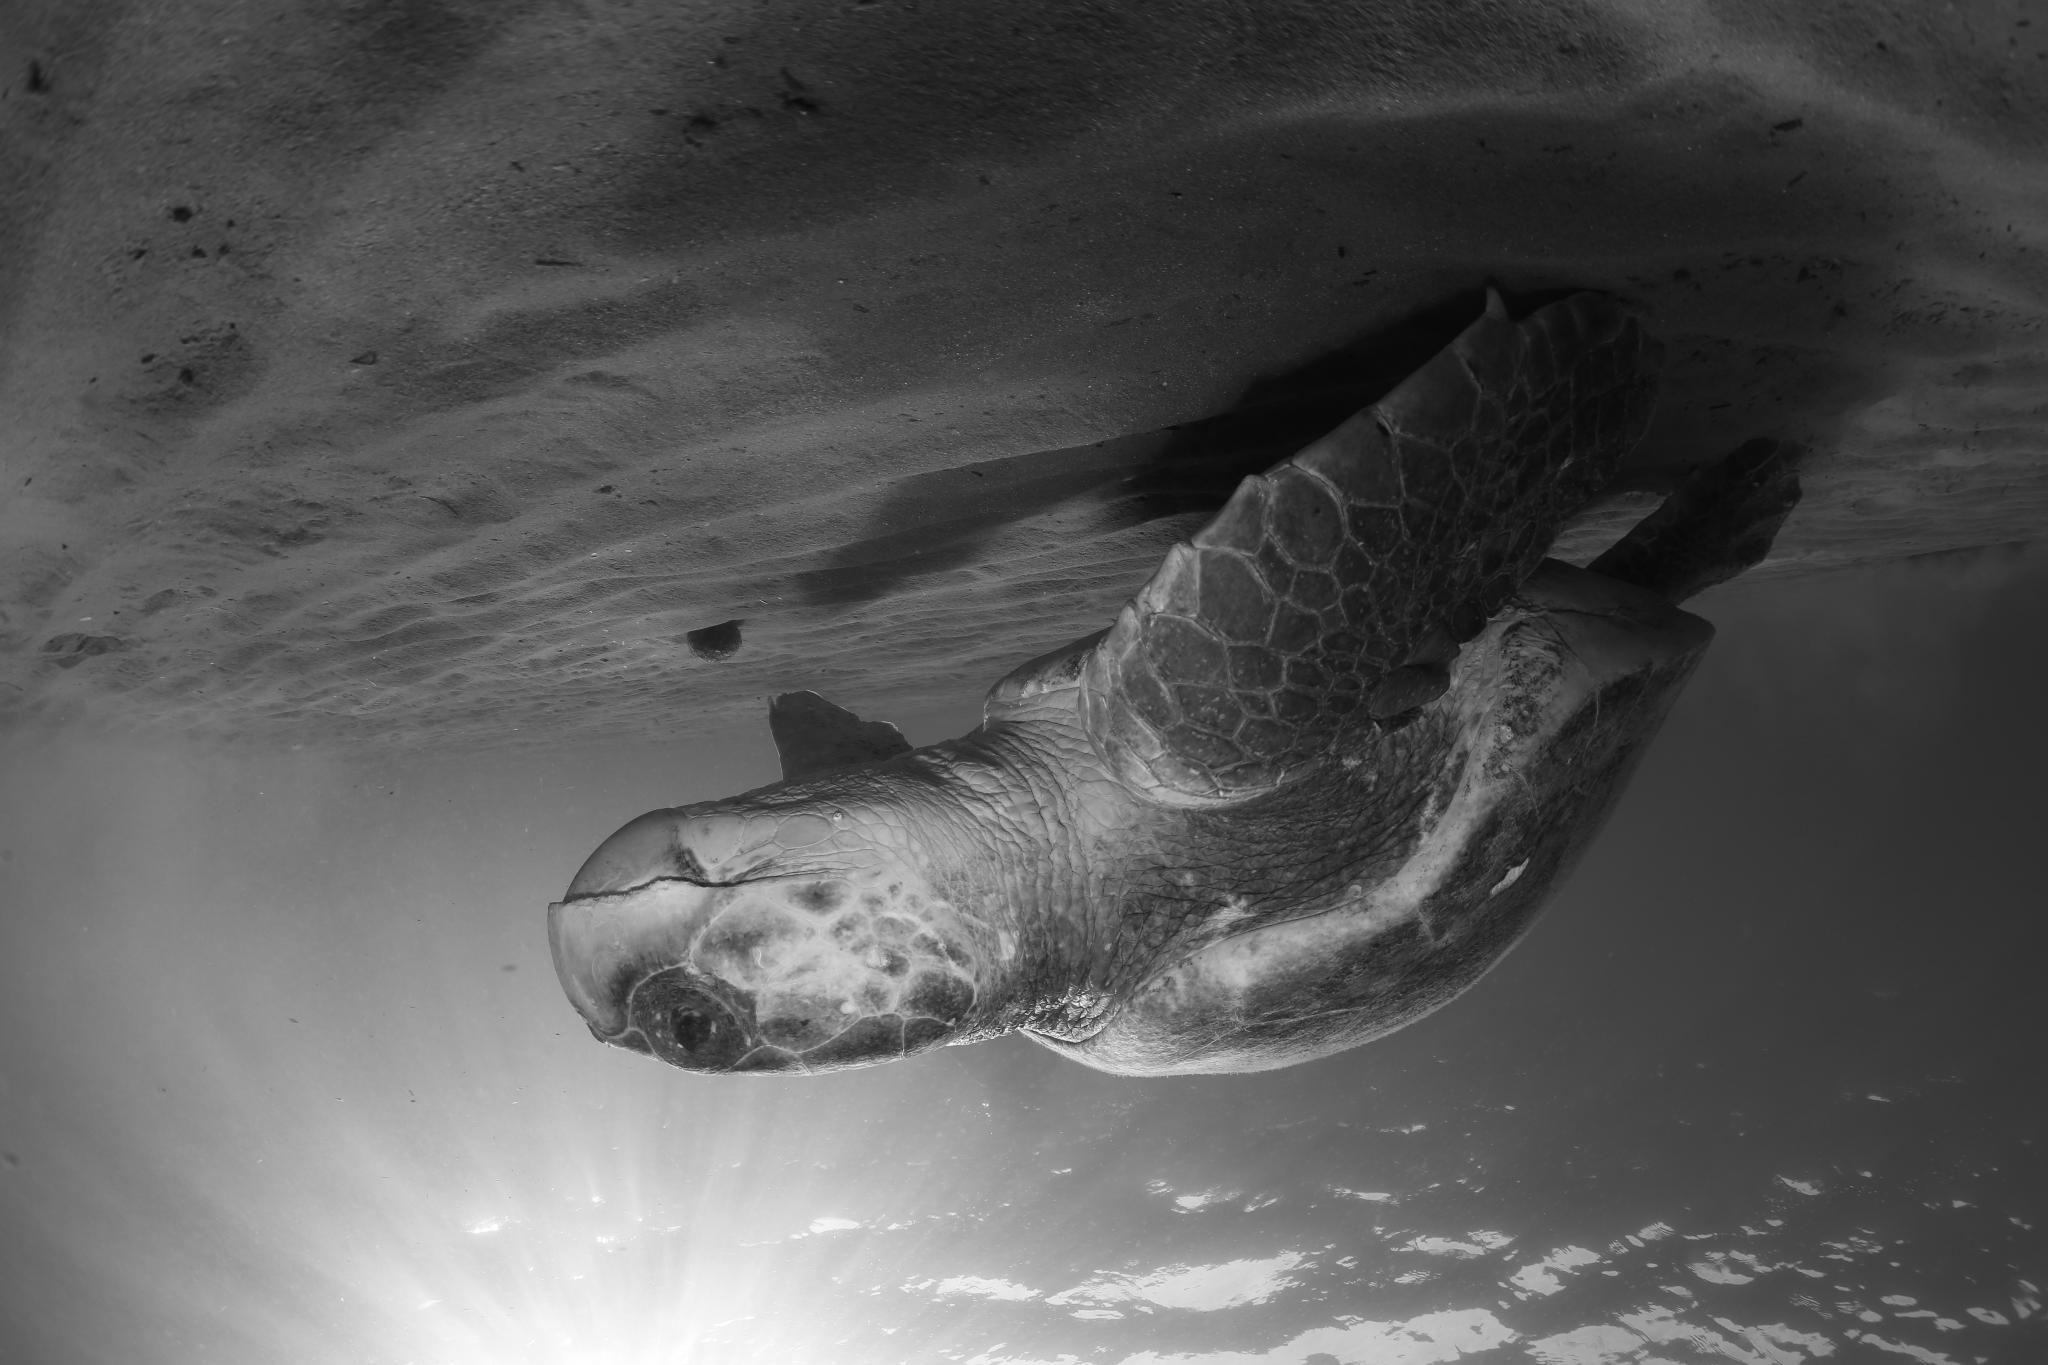Head: (549, 749, 1044, 1074)
